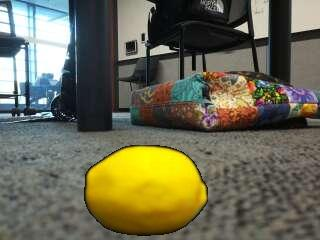lemon: (85, 145, 207, 235)
